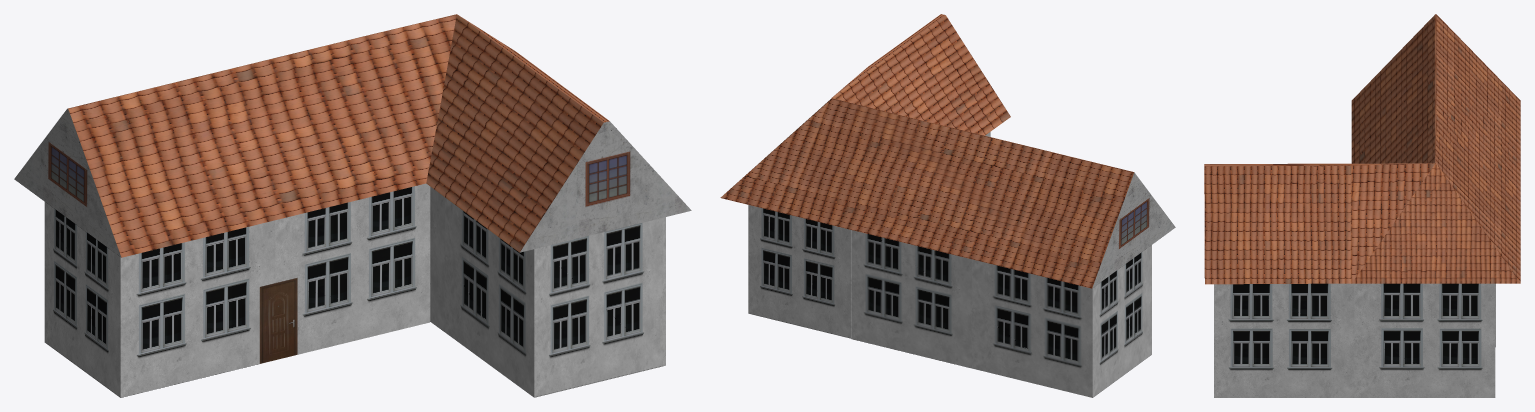
Rendered from house3.fbx.
3 renders of one model, left to right at view 1: azimuth 30°, elevation 25°; view 2: azimuth 150°, elevation 25°; view 3: azimuth 270°, elevation 25°, orthographic. The views are drawn at different scales.
Parts seen in each view (by area): view 1: Cube.001, Cube, Cube.002; view 2: Cube.001, Cube, Cube.002; view 3: Cube.001, Cube.002.
Boxes of the visible parts, bbox=[...] form: Cube.001: bbox=[14, 14, 691, 257]; Cube: bbox=[44, 183, 430, 397]; Cube.002: bbox=[430, 186, 665, 397]; Cube.001: bbox=[720, 14, 1175, 288]; Cube: bbox=[851, 230, 1151, 397]; Cube.002: bbox=[748, 132, 990, 338]; Cube.001: bbox=[1204, 14, 1520, 284]; Cube.002: bbox=[1214, 283, 1495, 397].
Bounding box in the file's own units: 1938 × 1028 × 1414.
7 materials, 6 textured.
